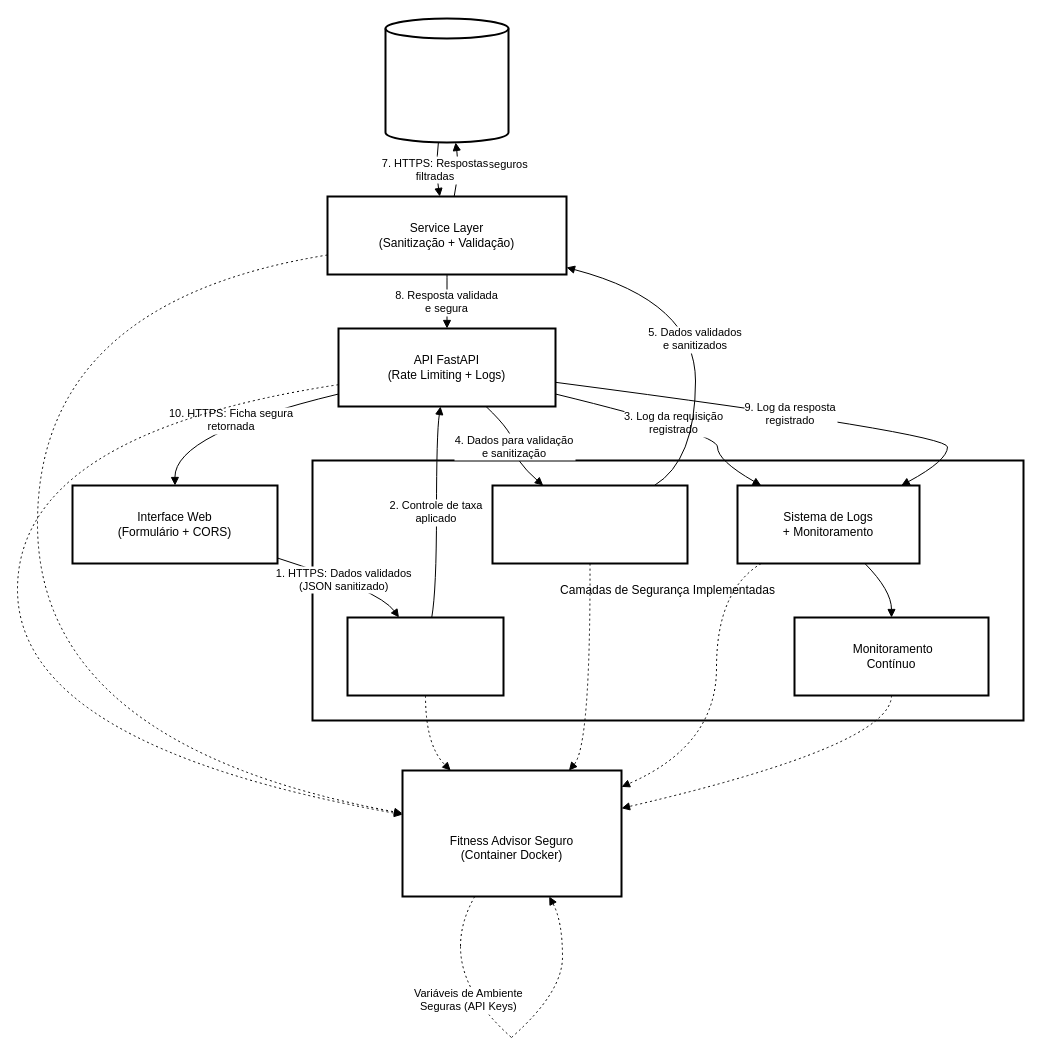
This 1042x1055 diagram has some shape labels left out. The shapes that lost their labels are listed below. From the top down, each one's centre as x and y in pixels, then its label:
the point at 446,80: Groq API (Llama Models) Externa
the point at 589,524: Validação Pydantic + Sanitização
the point at 425,656: Rate Limiting Middleware
